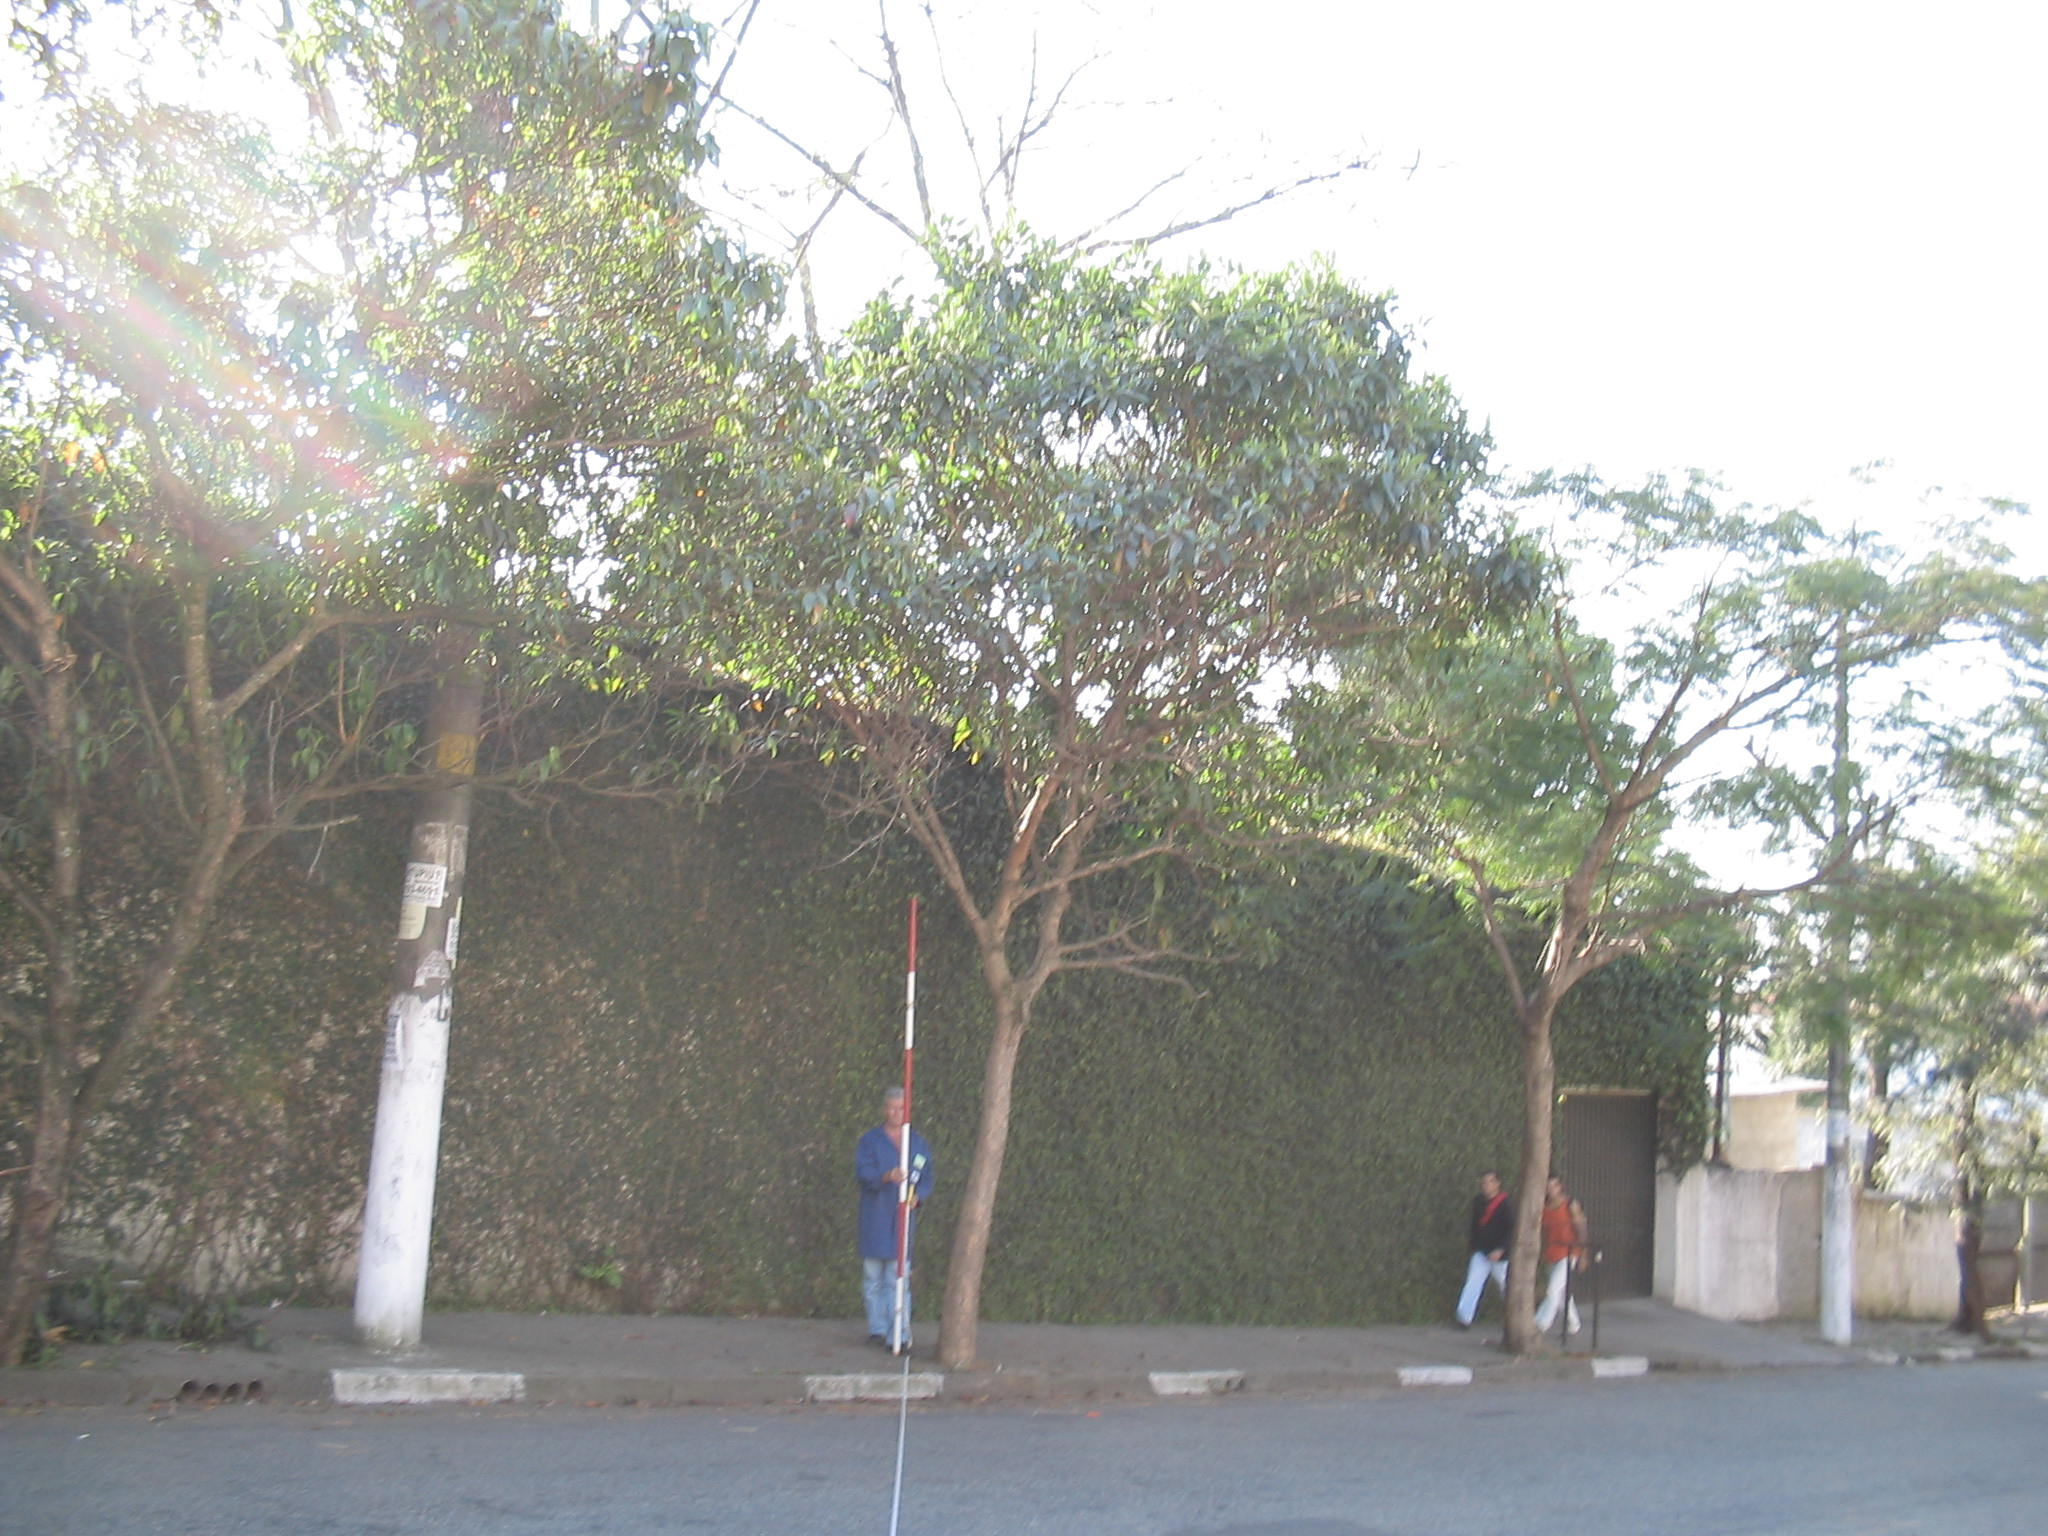crown: (8, 10, 829, 836), (651, 224, 1505, 1004)
stem: (926, 983, 1069, 1368), (1476, 1018, 1590, 1354), (2, 1126, 103, 1360)
stick: (871, 892, 939, 1355)
tree: (2, 3, 837, 1365), (645, 218, 1508, 1373), (1359, 571, 2006, 1355)
